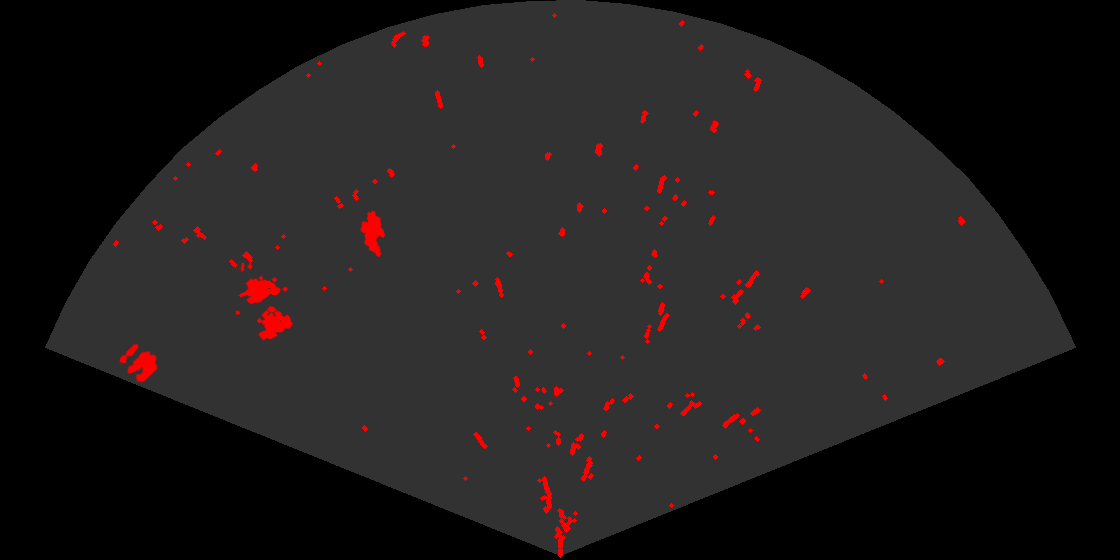AUV: (359, 209, 387, 259)
ball: (118, 342, 159, 384)
cage: (236, 263, 294, 342)
